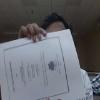notebook: (0, 28, 93, 99)
